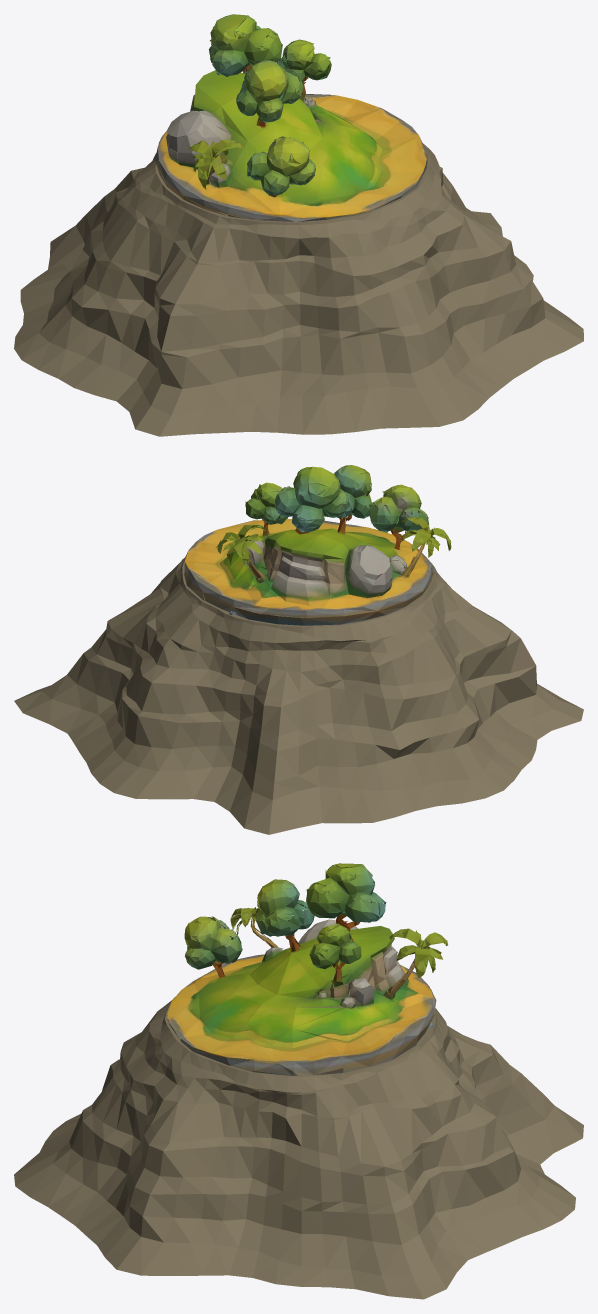
The model's file is green_a.glb.
3 renders of one model, top to bottom at view 1: azimuth 30°, elevation 25°; view 2: azimuth 150°, elevation 25°; view 3: azimuth 270°, elevation 25°, orthographic. The views are drawn at different scales.
Parts seen in each view (by area): view 1: lod0; view 2: lod0; view 3: lod0.
Boxes of the visible parts, x1,y1,x2,y2 form: lod0: (14,14,583,436); lod0: (14,465,583,834); lod0: (14,863,583,1299).
Size of what is drawn, in the model's own units: 4.32 by 2.43 by 4.27.
Materials: 1 (1 with a texture image).
